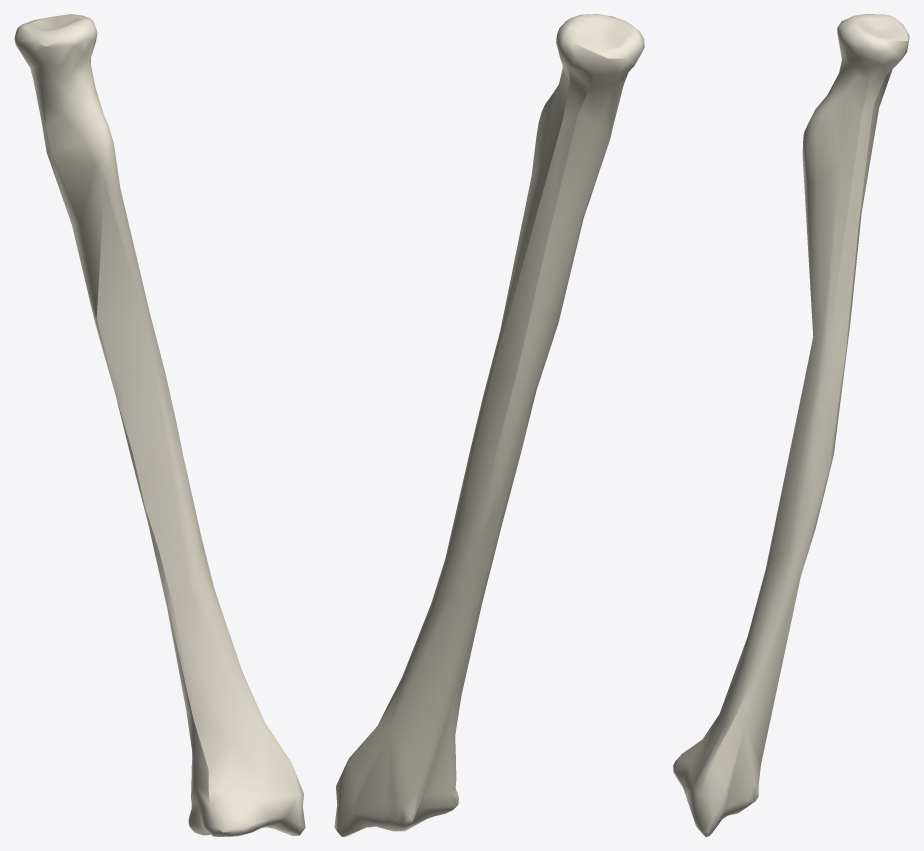
Rendered from fma23465_fj3277.glb.
3 renders of one model, left to right at view 1: azimuth 30°, elevation 25°; view 2: azimuth 210°, elevation 25°; view 3: azimuth 270°, elevation 25°, orthographic. The views are drawn at different scales.
Visible parts, largest first — view 1: FMA23465_FJ3277; view 2: FMA23465_FJ3277; view 3: FMA23465_FJ3277.
Part boxes in pixels (x1=…): FMA23465_FJ3277: x1=14, y1=14, x2=305, y2=836; FMA23465_FJ3277: x1=334, y1=14, x2=644, y2=836; FMA23465_FJ3277: x1=673, y1=14, x2=909, y2=836.
Size of the model in its own units: 0.0593 by 0.2288 by 0.0658.
